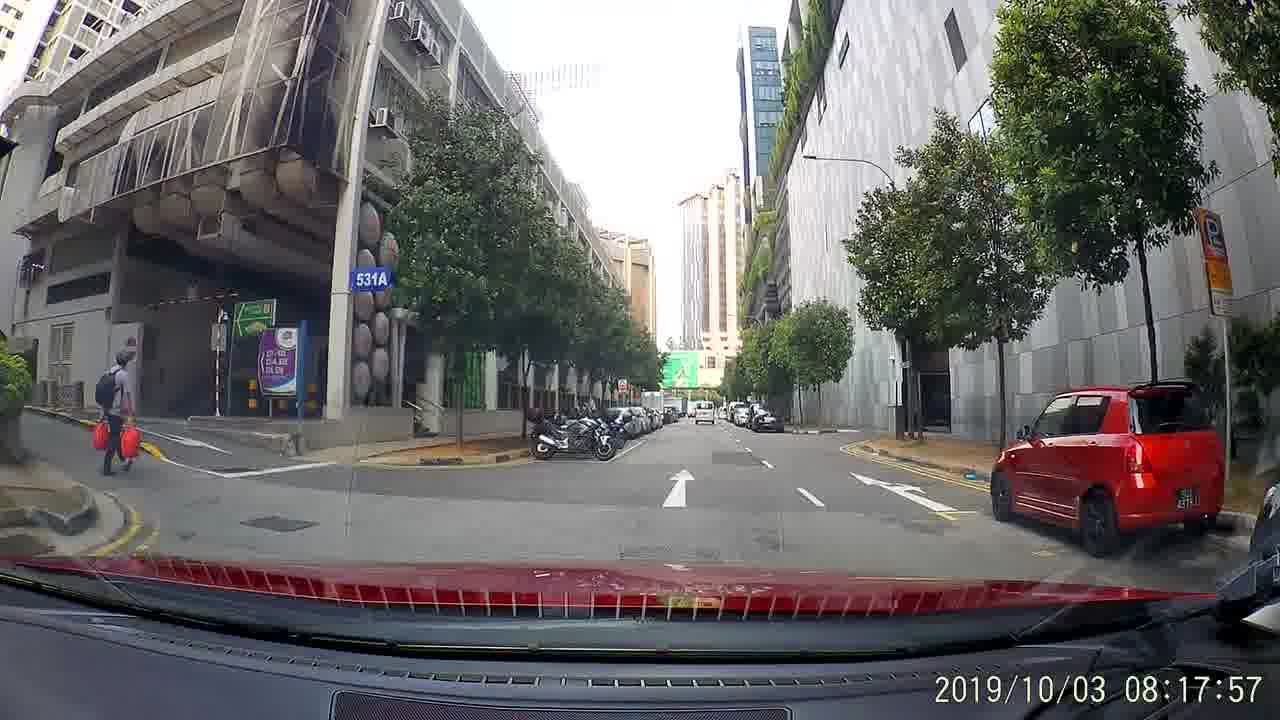car: (986, 373, 1224, 559), (749, 408, 785, 436)
